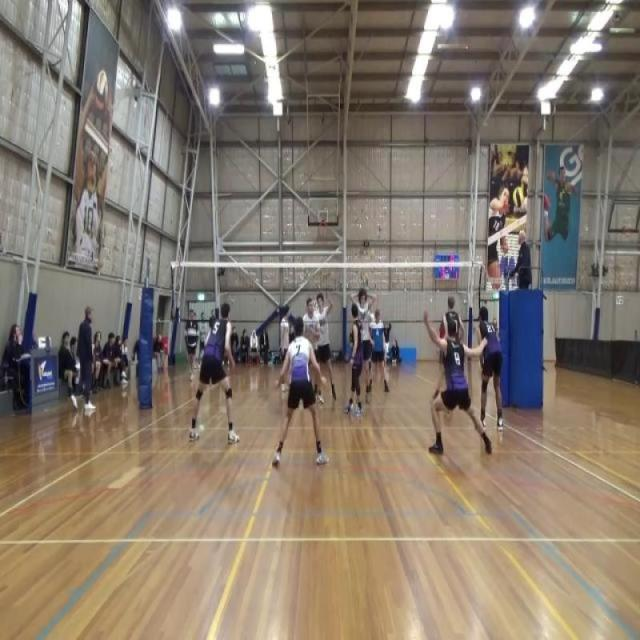volleyball: (94, 68, 108, 110), (512, 185, 524, 208), (371, 248, 376, 260)
